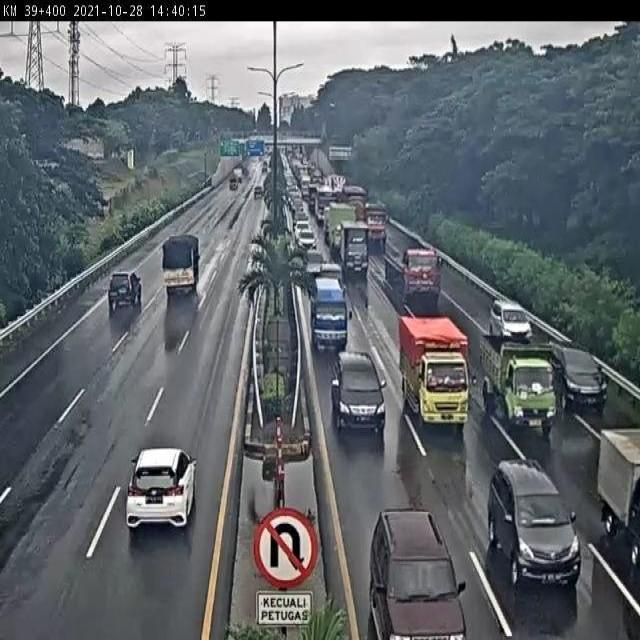Bus: (306, 277, 353, 354), (314, 184, 341, 223)
Car: (487, 459, 582, 586), (123, 446, 198, 536), (329, 352, 388, 430), (550, 339, 611, 414), (488, 298, 532, 334), (108, 272, 142, 312), (300, 248, 323, 277), (298, 229, 317, 253), (253, 185, 264, 200)
Truck: (477, 331, 559, 434), (399, 313, 470, 431), (599, 424, 640, 564), (385, 242, 445, 307), (162, 235, 199, 301), (341, 218, 369, 276), (329, 202, 354, 254), (362, 202, 389, 247), (340, 185, 368, 219), (322, 204, 332, 240)
